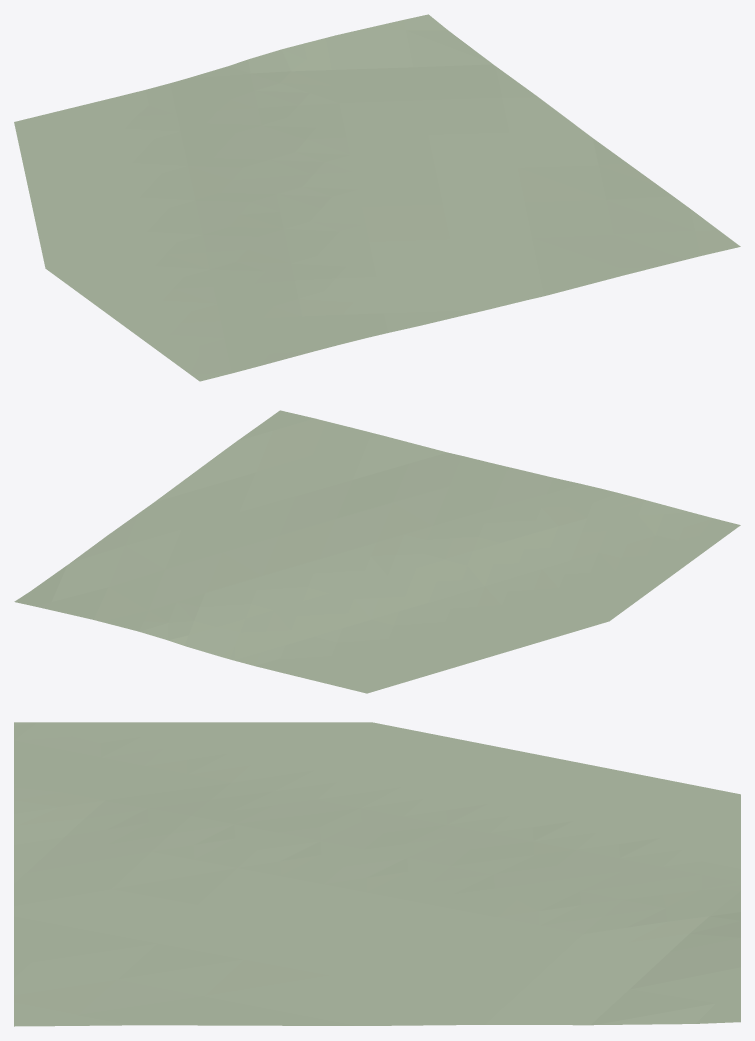
The model's file is SM_MPRR_Terrain_-4_1.fbx.
3 renders of one model, top to bottom at view 1: azimuth 30°, elevation 25°; view 2: azimuth 150°, elevation 25°; view 3: azimuth 270°, elevation 25°, orthographic. The views are drawn at different scales.
Visible parts, largest first — view 1: SM_MPRR_Terrain_-4_1; view 2: SM_MPRR_Terrain_-4_1; view 3: SM_MPRR_Terrain_-4_1.
Part boxes in pixels (x1=…): SM_MPRR_Terrain_-4_1: x1=14, y1=14, x2=740, y2=381; SM_MPRR_Terrain_-4_1: x1=14, y1=410, x2=740, y2=693; SM_MPRR_Terrain_-4_1: x1=14, y1=722, x2=740, y2=1026.
Bounding box in the file's own units: 15000 × 15000 × 216.
